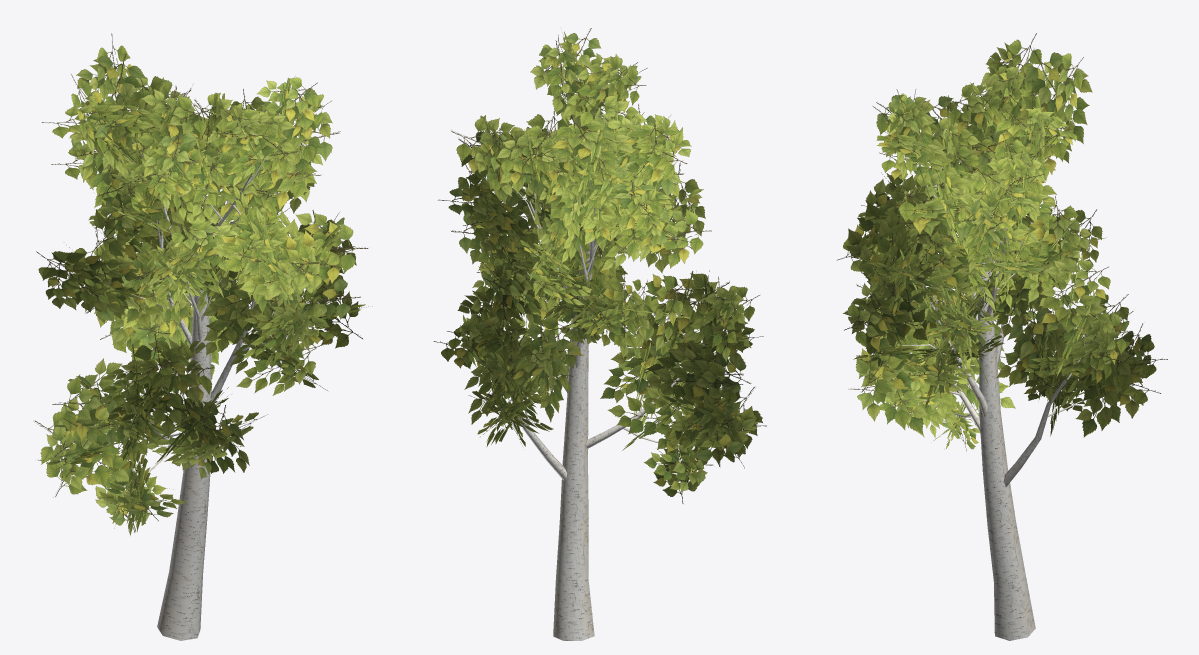
File: nature-white-silver-birch_v3.glb
3 renders of one model, left to right at view 1: azimuth 30°, elevation 25°; view 2: azimuth 150°, elevation 25°; view 3: azimuth 270°, elevation 25°, orthographic. The views are drawn at different scales.
Visible parts, largest first — view 1: nature-white-silver-birch; view 2: nature-white-silver-birch; view 3: nature-white-silver-birch.
Boxes of the visible parts, x1=… form: nature-white-silver-birch: x1=35, y1=33, x2=372, y2=640; nature-white-silver-birch: x1=433, y1=28, x2=766, y2=640; nature-white-silver-birch: x1=837, y1=33, x2=1167, y2=640.
Size of the model in its own units: 4.97 by 8.13 by 4.69.
Materials: 2 (2 with a texture image).
